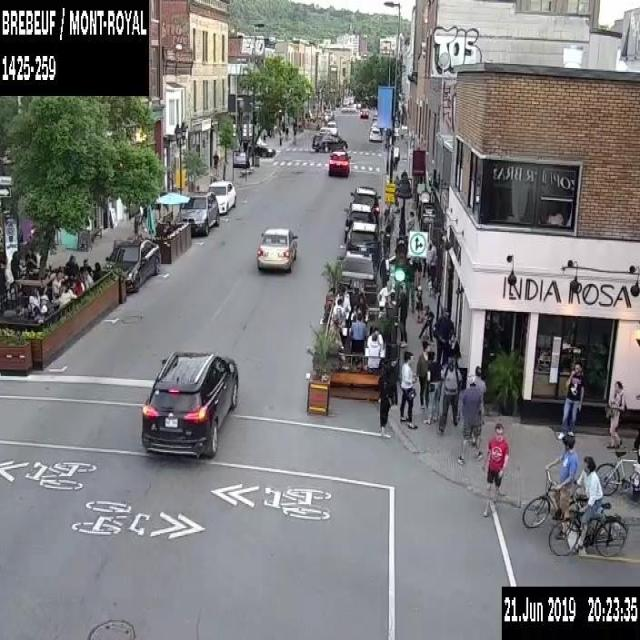cyclist: (548, 455, 628, 556), (521, 433, 601, 527)
pedestrian: (456, 362, 486, 462), (480, 421, 508, 515), (554, 360, 584, 441), (439, 348, 459, 432), (606, 378, 628, 452), (397, 351, 417, 428), (432, 306, 452, 383), (376, 360, 393, 439), (425, 349, 441, 423), (416, 339, 429, 409), (397, 276, 408, 348), (379, 224, 391, 287), (348, 312, 366, 349), (425, 238, 437, 290), (365, 333, 381, 367), (419, 304, 434, 339), (376, 279, 396, 304), (55, 288, 76, 308), (366, 325, 383, 348), (334, 290, 350, 312), (10, 249, 22, 278), (330, 306, 346, 326), (332, 296, 346, 317), (51, 270, 63, 294), (354, 292, 368, 311), (24, 247, 36, 266), (80, 257, 92, 275), (64, 254, 78, 268), (133, 210, 141, 234), (92, 261, 102, 280), (631, 428, 639, 451), (212, 150, 218, 178), (406, 208, 414, 228), (276, 127, 282, 148), (392, 158, 397, 170), (394, 140, 397, 145)
vehicle: (139, 346, 239, 458), (101, 235, 162, 293), (173, 192, 219, 236), (256, 225, 298, 272), (337, 249, 381, 292), (343, 200, 379, 240), (344, 220, 380, 260), (205, 179, 238, 212), (350, 184, 380, 217), (312, 132, 348, 151), (242, 139, 276, 156), (328, 149, 349, 174), (368, 127, 381, 141), (327, 120, 337, 134), (319, 126, 330, 135), (359, 108, 368, 118), (369, 121, 378, 128), (371, 116, 377, 122)
